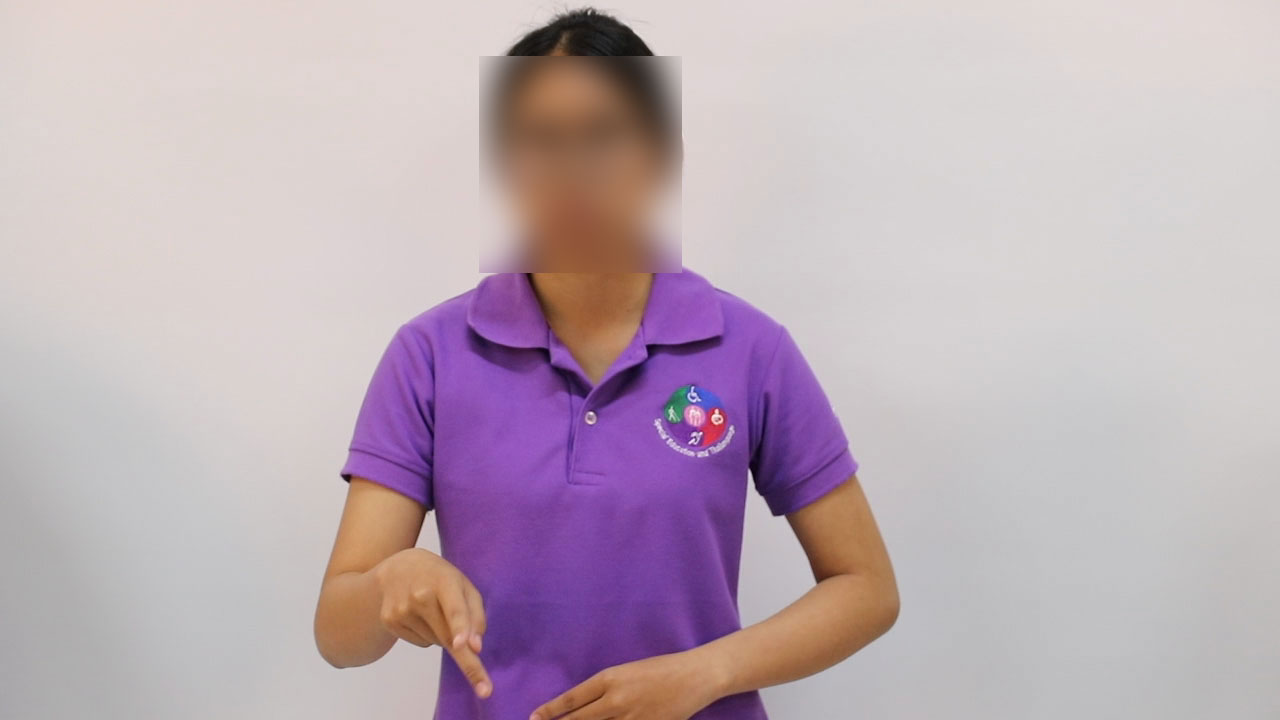por: (370, 533, 502, 710)
